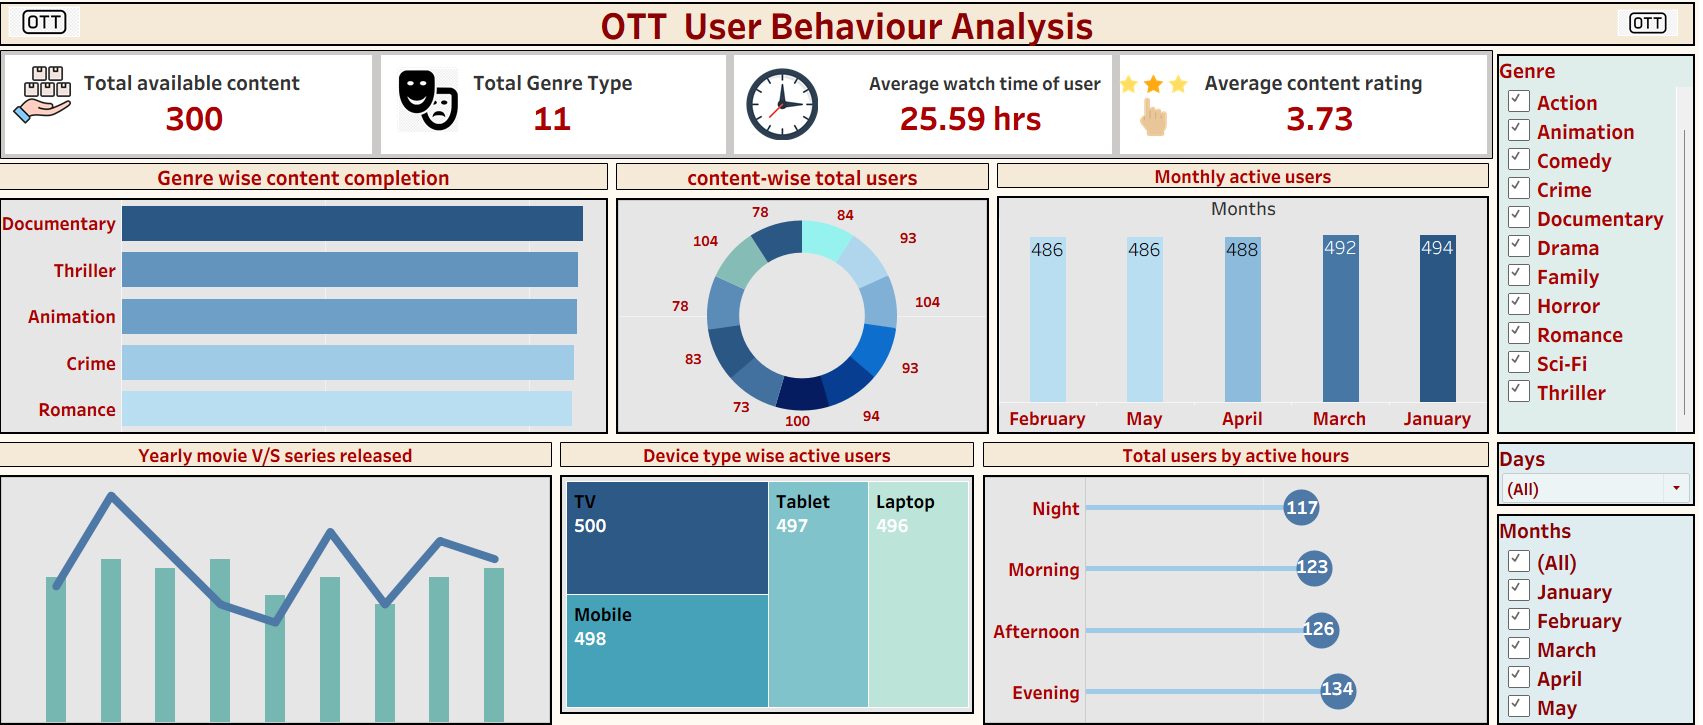

Layout of this report page (visuals, bound fields, positions):
{"tool":"tableau","page":{"name":"Dashboard 1","canvas":[1000,1000],"units":"permille","ordinal":0},"visuals":[{"type":"title","box":[1.7,4,996.5,70.2]},{"type":"image","param":"Image/images.png","box":[12.1,20.6,41.8,43.8]},{"type":"image","param":"Image/images.png","box":[943,25.4,44.8,36.1]},{"type":"filter","title":"Total Available content ","param":"[federated.04lg4um1jje5sx105pcd90c6xweq].[none:genre:nk]","box":[878.5,74.2,119.8,496.7]},{"type":"worksheet","title":"Total Available content ","mark":"Automatic","box":[5.2,75.6,221.2,145.2]},{"type":"worksheet","title":"Total Genre Available","mark":"Automatic","box":[226.5,75.6,205.8,145.2]},{"type":"worksheet","title":"average watch time per user","mark":"Automatic","box":[432.3,75.6,224.4,145.2]},{"type":"worksheet","title":"avg content rating","mark":"Automatic","box":[656.7,75.6,221.2,145.2]},{"type":"image","param":"Image/total_content.png","box":[14.5,100.4,34.3,83]},{"type":"image","param":"Image/rating.png","box":[655.2,101.7,45.4,132.5]},{"type":"image","param":"Image/genre Type.png","box":[234.9,103.1,43,88.4]},{"type":"image","param":"Image/avg watch time.png","box":[441.3,104.4,54.6,96.4]},{"type":"text","box":[1.7,222.1,360.9,46.9]},{"type":"text","box":[362.7,222.1,223.2,46.9]},{"type":"text","box":[585.8,222.1,292.7,44.2]},{"type":"worksheet","title":"Monthly Active users","mark":"Automatic","rows":["Calculation_877357510714433544"],"cols":["Calculation_877357510714081287"],"box":[585.8,266.3,292.7,334.2]},{"type":"worksheet","title":"Genre V/S Completion rate","mark":"Bar","rows":["genre"],"cols":["completion_rate_percent"],"box":[1.7,268.9,360.9,331.5]},{"type":"worksheet","title":"total watch time by category","mark":"Pie","rows":["Calculation_877357510707122178","Calculation_877357510707122178"],"box":[362.7,268.9,223.2,331.5]},{"type":"filter","title":"yearly released content","param":"[federated.04lg4um1jje5sx105pcd90c6xweq].[none:release_year:qk]","box":[880.8,573,113.4,132.5]},{"type":"text","box":[1.7,600.4,328.3,44.2]},{"type":"text","box":[330.1,600.4,247.2,44.2]},{"type":"text","box":[577.3,600.4,301.2,44.2]},{"type":"worksheet","title":"deviice wise active users","mark":"Automatic","box":[330.1,644.6,247.2,351.4]},{"type":"worksheet","title":"total user by active hours","mark":"Automatic","rows":["active_hours"],"cols":["Calculation_877357510714433544","Calculation_877357510714433544"],"box":[577.3,644.6,301.2,351.4]},{"type":"worksheet","title":"yearly released content","mark":"Bar","rows":["Calculation_877357510791495692","Calculation_877357510790918155"],"cols":["release_year"],"box":[6.4,647.9,321.5,341.4]},{"type":"filter","title":"average watch time per user","param":"[federated.04lg4um1jje5sx105pcd90c6xweq].[dy:timestamp:ok]","box":[878.5,712.2,119.8,141.9]},{"type":"filter","title":"average watch time per user","param":"[federated.04lg4um1jje5sx105pcd90c6xweq].[mn:timestamp:ok]","box":[878.5,854.1,119.8,141.9]}]}

Visuals, with their boxes on the dashboard's canvas, which has no fixed pixel size, in thousandths of its width and height (x1, y1, x2, y2). These are canvas units, not pixel positions in the 1703x725 screenshot, which may show the page scaled, cropped or inside an application window:
title: (2,4,998,74)
image: (12,21,54,64)
image: (943,25,988,62)
"Total Available content " filter: (878,74,998,571)
"Total Available content " worksheet: (5,76,226,221)
"Total Genre Available" worksheet: (226,76,432,221)
"average watch time per user" worksheet: (432,76,657,221)
"avg content rating" worksheet: (657,76,878,221)
image: (14,100,49,183)
image: (655,102,701,234)
image: (235,103,278,192)
image: (441,104,496,201)
text: (2,222,363,269)
text: (363,222,586,269)
text: (586,222,878,266)
"Monthly Active users" worksheet: (586,266,878,600)
"Genre V/S Completion rate" worksheet (Bar marks): (2,269,363,600)
"total watch time by category" worksheet (Pie marks): (363,269,586,600)
"yearly released content" filter: (881,573,994,706)
text: (2,600,330,645)
text: (330,600,577,645)
text: (577,600,878,645)
"deviice wise active users" worksheet: (330,645,577,996)
"total user by active hours" worksheet: (577,645,878,996)
"yearly released content" worksheet (Bar marks): (6,648,328,989)
"average watch time per user" filter: (878,712,998,854)
"average watch time per user" filter: (878,854,998,996)
